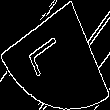L_NE: (33, 29, 77, 81)
